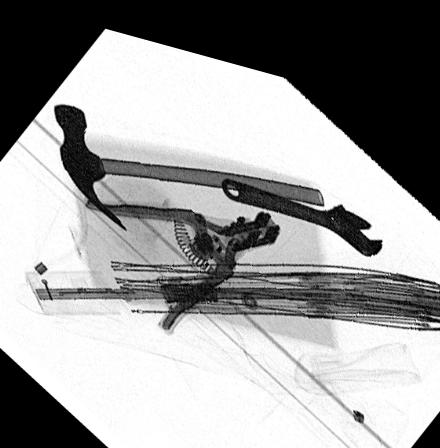Hammer: (51, 97, 325, 228)
Pliers: (83, 190, 283, 329)
Wrench: (219, 163, 380, 235)
